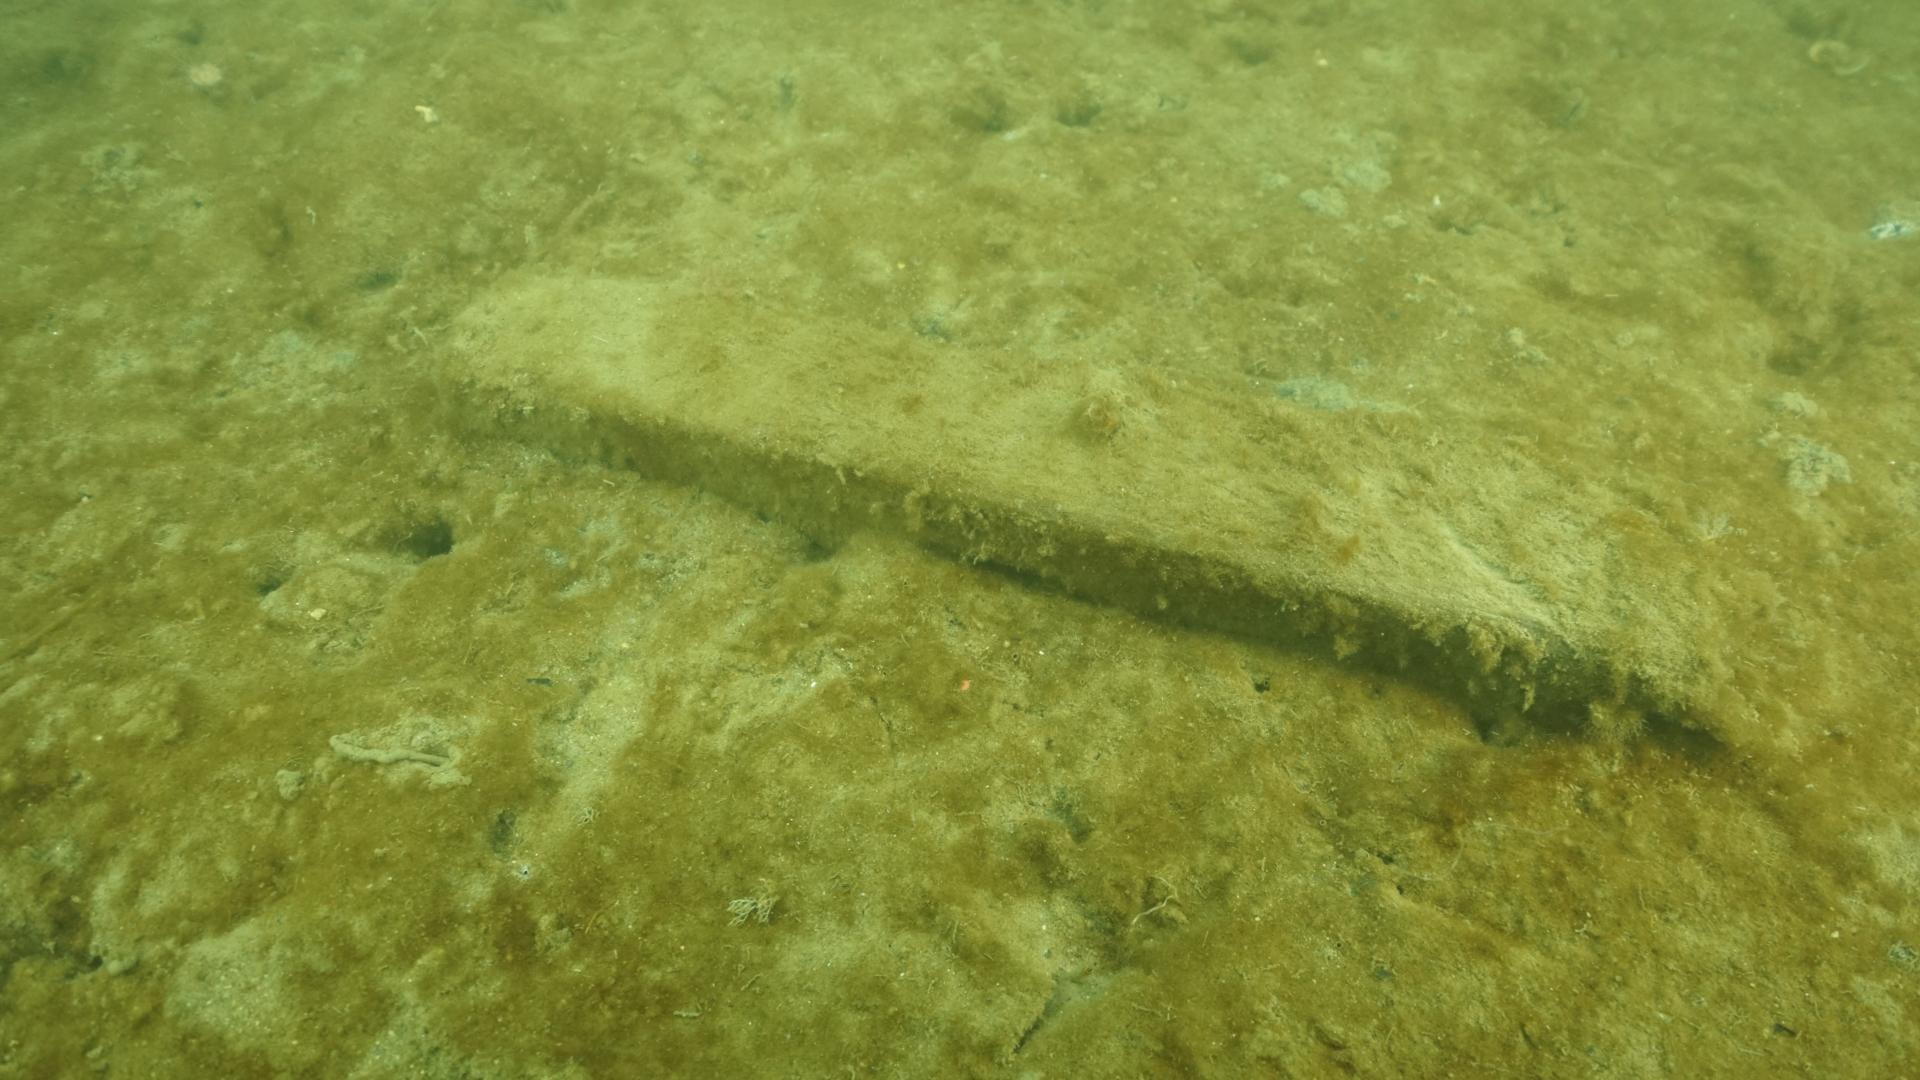wood: (442, 268, 1724, 738)
